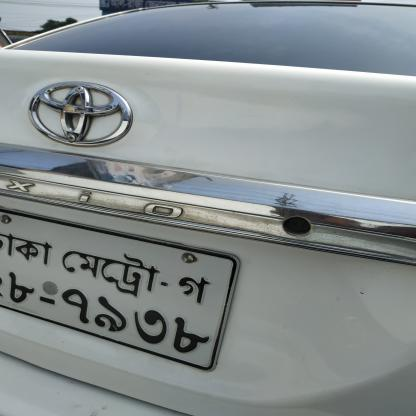license_plate: (8, 180, 313, 374)
